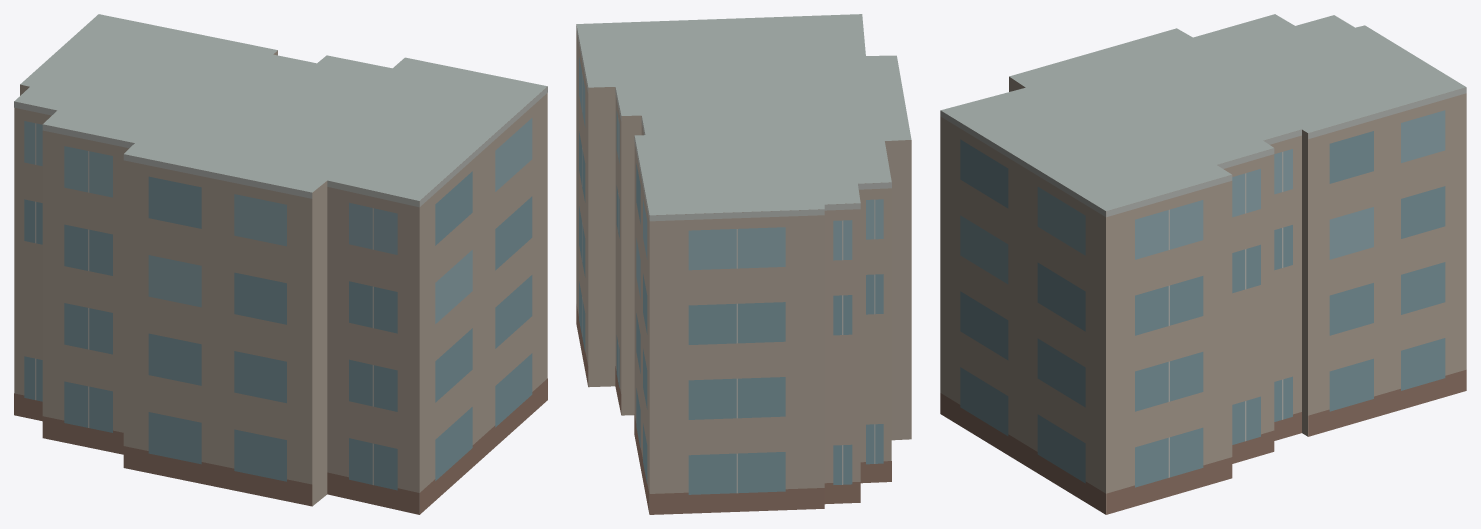
Rendered from survey-upis-32634228.glb.
The picture shows the model from 3 angles, left to right: view 1: azimuth 30°, elevation 25°; view 2: azimuth 150°, elevation 25°; view 3: azimuth 270°, elevation 25°; orthographic projection. The views are drawn at different scales.
Visible parts, largest first — view 1: survey-upis-32634228.tmp; view 2: survey-upis-32634228.tmp; view 3: survey-upis-32634228.tmp.
Boxes of the visible parts, box(x1,y1,x2,y2) form: survey-upis-32634228.tmp: box(14, 14, 547, 514); survey-upis-32634228.tmp: box(576, 14, 911, 514); survey-upis-32634228.tmp: box(940, 14, 1466, 514).
Size of the model in its own units: 16.98 by 12.18 by 19.13.
